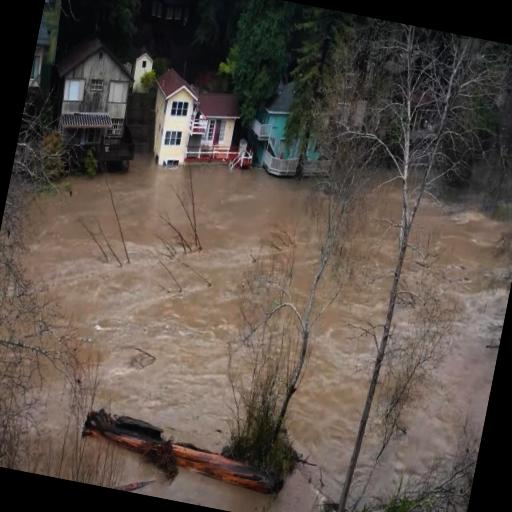flood: (112, 183, 401, 512), (110, 187, 399, 512), (21, 153, 317, 452), (364, 199, 512, 502), (34, 361, 82, 474)
house: (44, 0, 150, 165), (134, 60, 206, 170), (242, 74, 315, 180), (186, 84, 244, 170), (25, 0, 71, 105)
